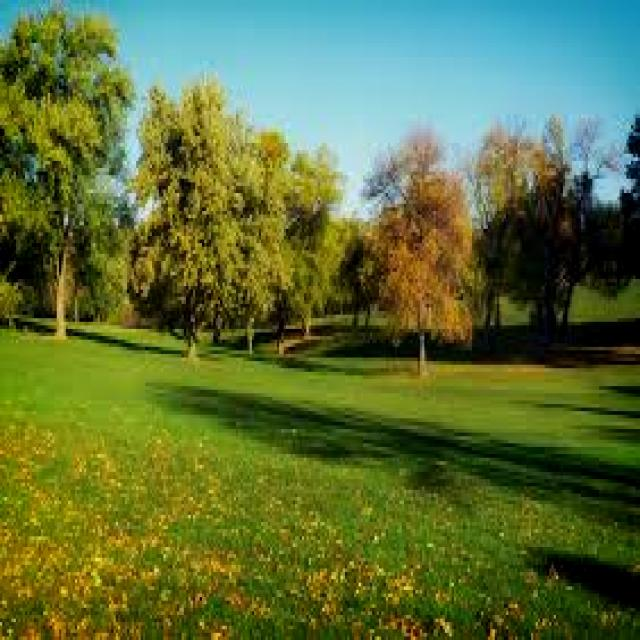wet: (9, 401, 621, 622), (129, 73, 272, 348), (6, 16, 114, 340), (276, 145, 346, 343)
